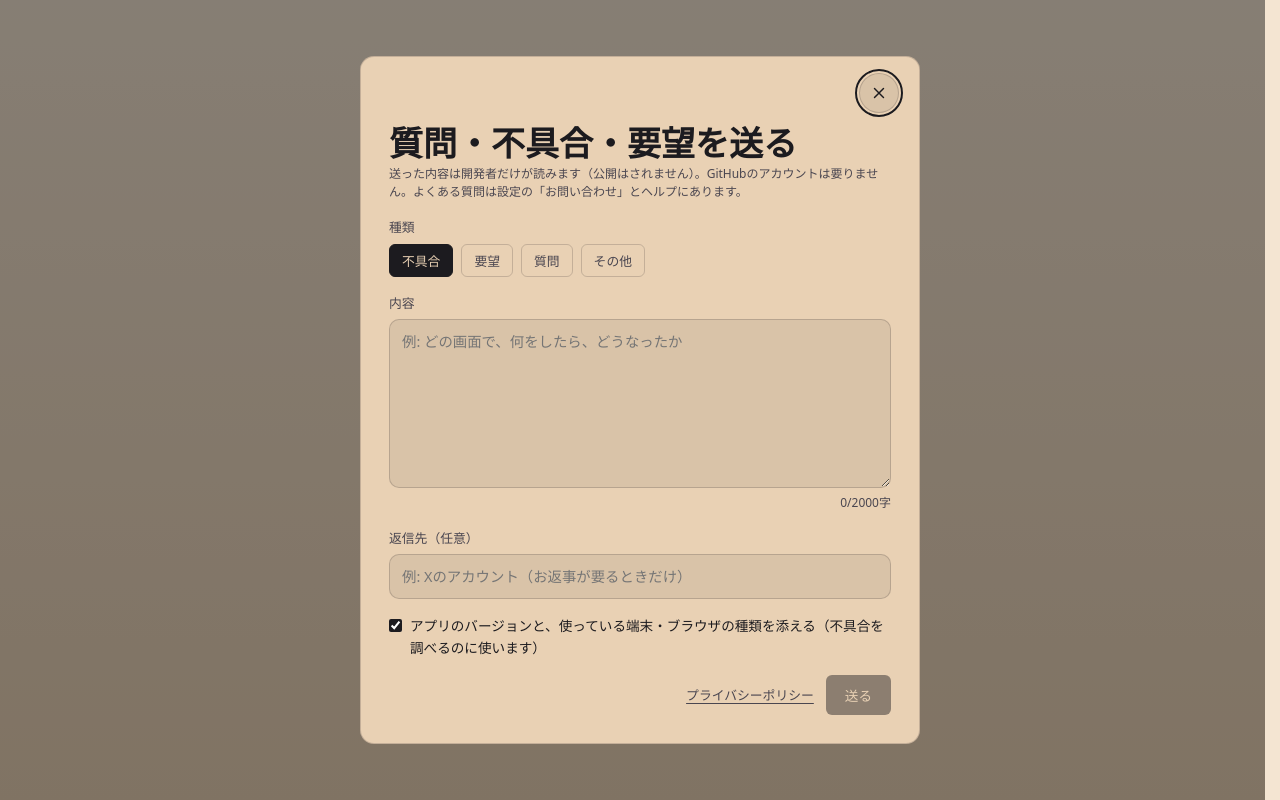
Scenario: FeedbackSheet › keeps the text and says what to do when sending fails
Type "記録の一覧で表紙が出ません" into the text box labelled "内容 0/2000字" at (640, 404), box [389,319,891,488]
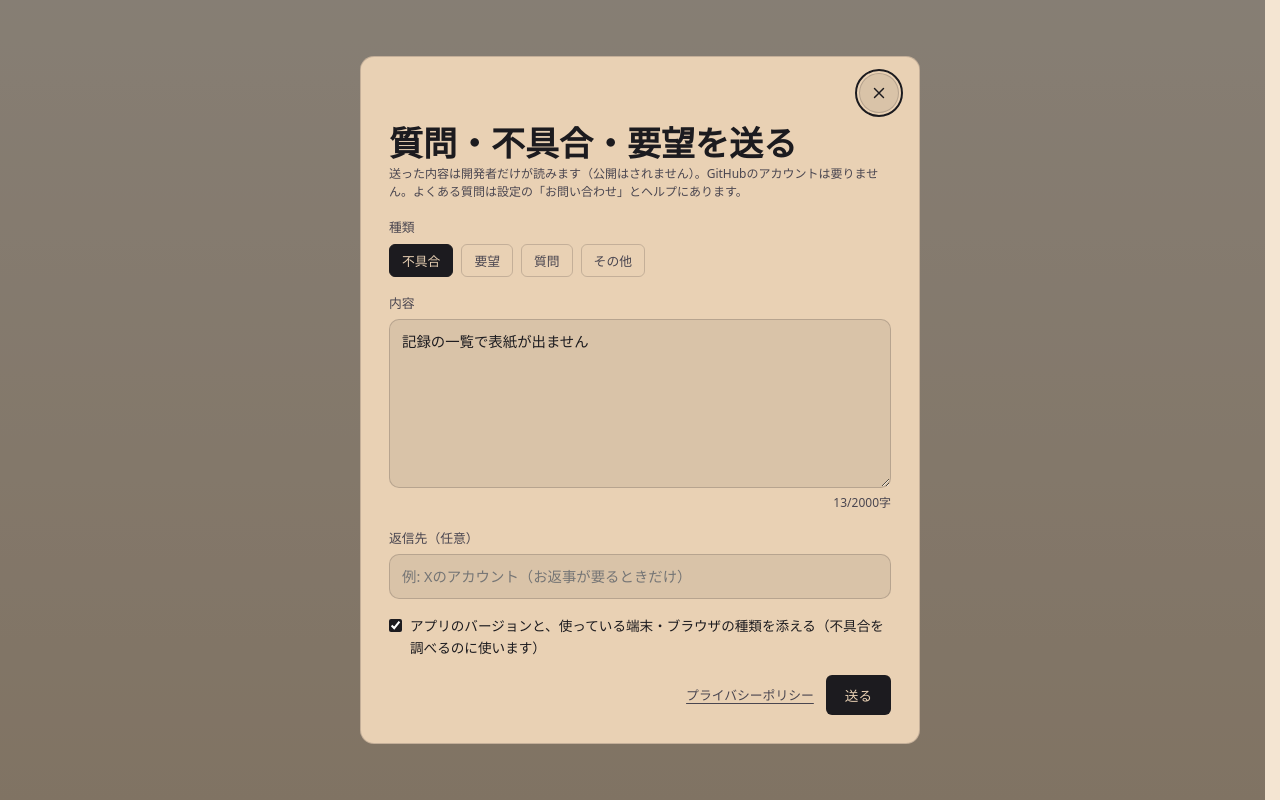
Click the button "送る" at (858, 695), box [826,675,891,715]
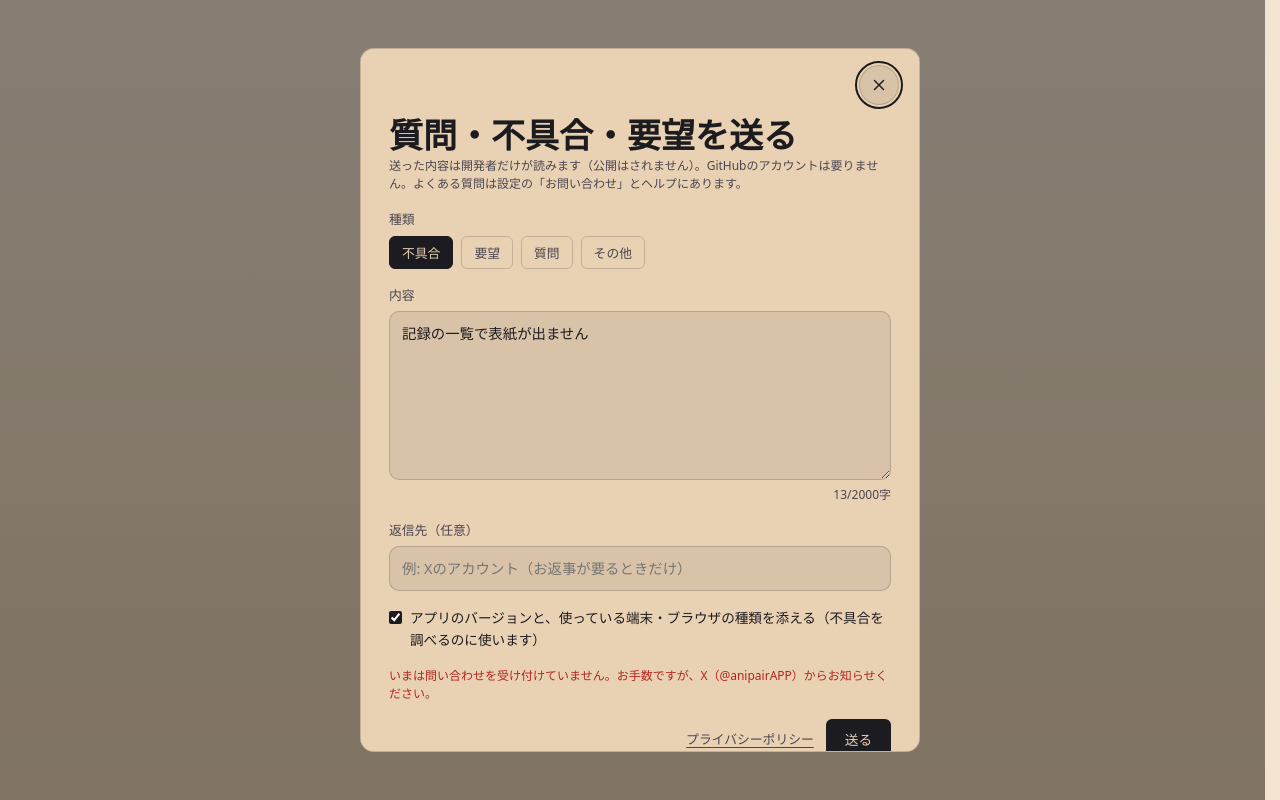
Expected: the message shows "X（@anipairAPP）", [389,667,888,702]
